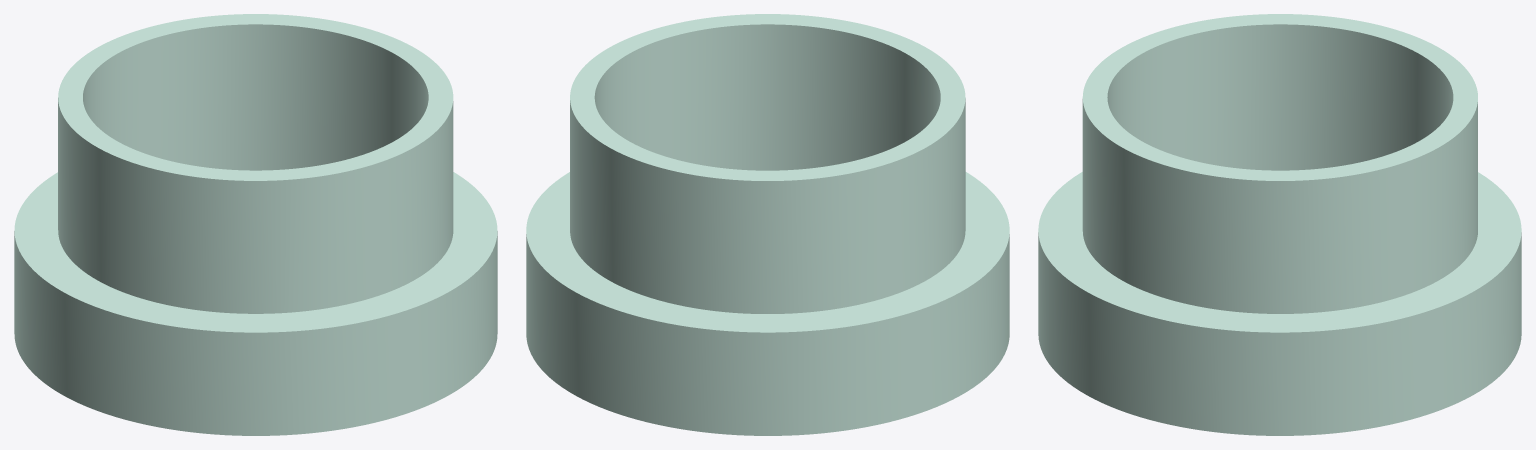
3 views of the same model, side by side, from view 1: azimuth 30°, elevation 25°; view 2: azimuth 150°, elevation 25°; view 3: azimuth 270°, elevation 25° (orthographic).
Visible parts, largest first — view 1: Renderer Node; view 2: Renderer Node; view 3: Renderer Node.
Part boxes in pixels (x1,y1,x2,y2): Renderer Node: (14,14,497,435); Renderer Node: (526,14,1009,435); Renderer Node: (1038,14,1521,435).
Bounding box in the file's own units: 1.39 × 0.75 × 1.39.
